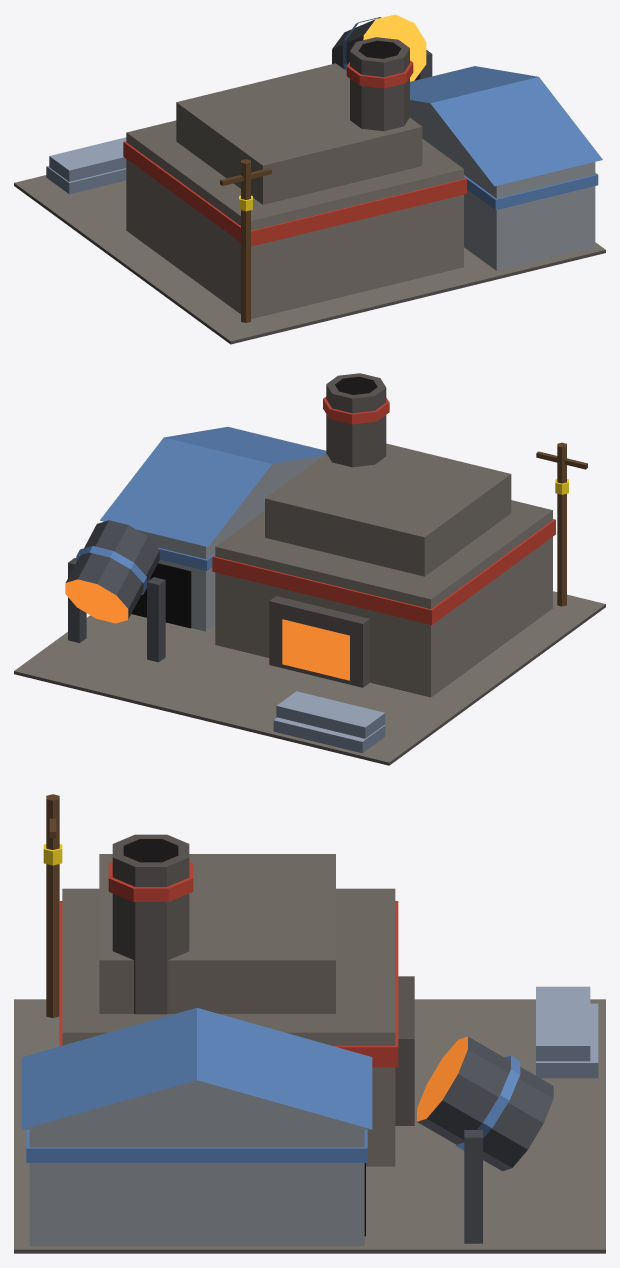
The model's file is smelter_2.glb.
The picture shows the model from 3 angles, top to bottom: view 1: azimuth 30°, elevation 25°; view 2: azimuth 150°, elevation 25°; view 3: azimuth 270°, elevation 25°; orthographic projection. The views are drawn at different scales.
Visible parts, largest first — view 1: smelter_2; view 2: smelter_2; view 3: smelter_2.
Boxes of the visible parts, box(x1,y1,x2,y2) form: smelter_2: box(14, 14, 605, 344); smelter_2: box(14, 373, 605, 765); smelter_2: box(14, 794, 605, 1253).
Bounding box in the file's own units: 3.8 × 2.03 × 3.8.
